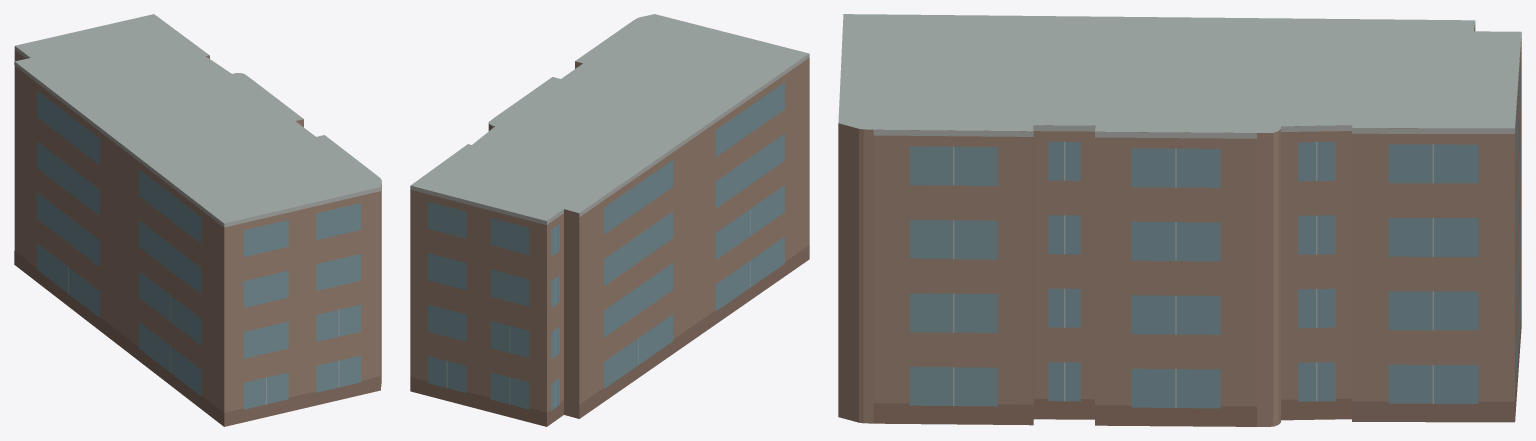
Rendered from survey-upis-32964822.glb.
3 views of the same model, side by side, from view 1: azimuth 30°, elevation 25°; view 2: azimuth 150°, elevation 25°; view 3: azimuth 270°, elevation 25° (orthographic). The views are drawn at different scales.
Visible parts, largest first — view 1: survey-upis-32964822.tmp; view 2: survey-upis-32964822.tmp; view 3: survey-upis-32964822.tmp.
Part boxes in pixels (x1,y1,x2,y2): survey-upis-32964822.tmp: [14, 14, 381, 426]; survey-upis-32964822.tmp: [410, 14, 809, 426]; survey-upis-32964822.tmp: [838, 14, 1521, 426].
Bounding box in the file's own units: 10.77 × 12.4 × 26.13.
